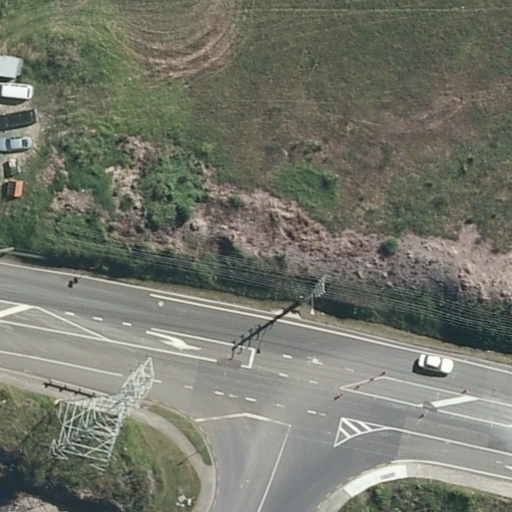DT: (296, 272, 334, 309)
TT: (44, 356, 157, 466)
